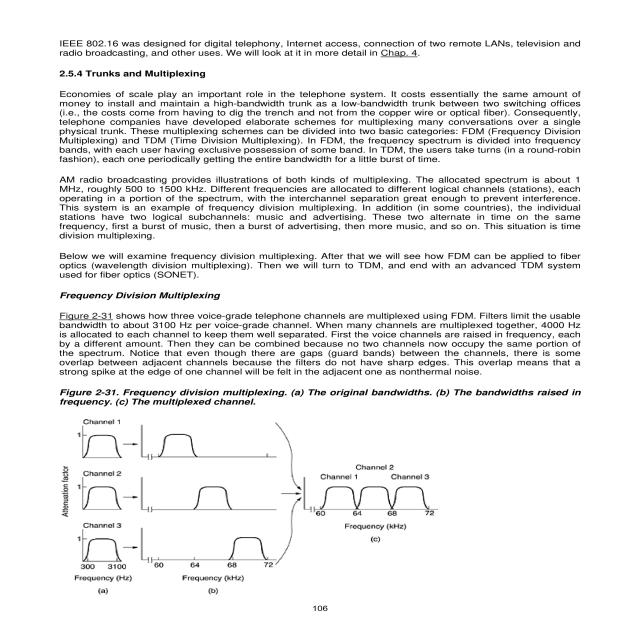diagram: (32, 380, 598, 599)
